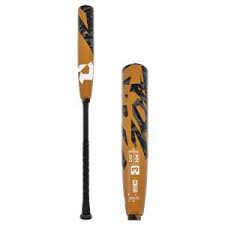baseball bat: (121, 62, 148, 223), (76, 4, 96, 220)
